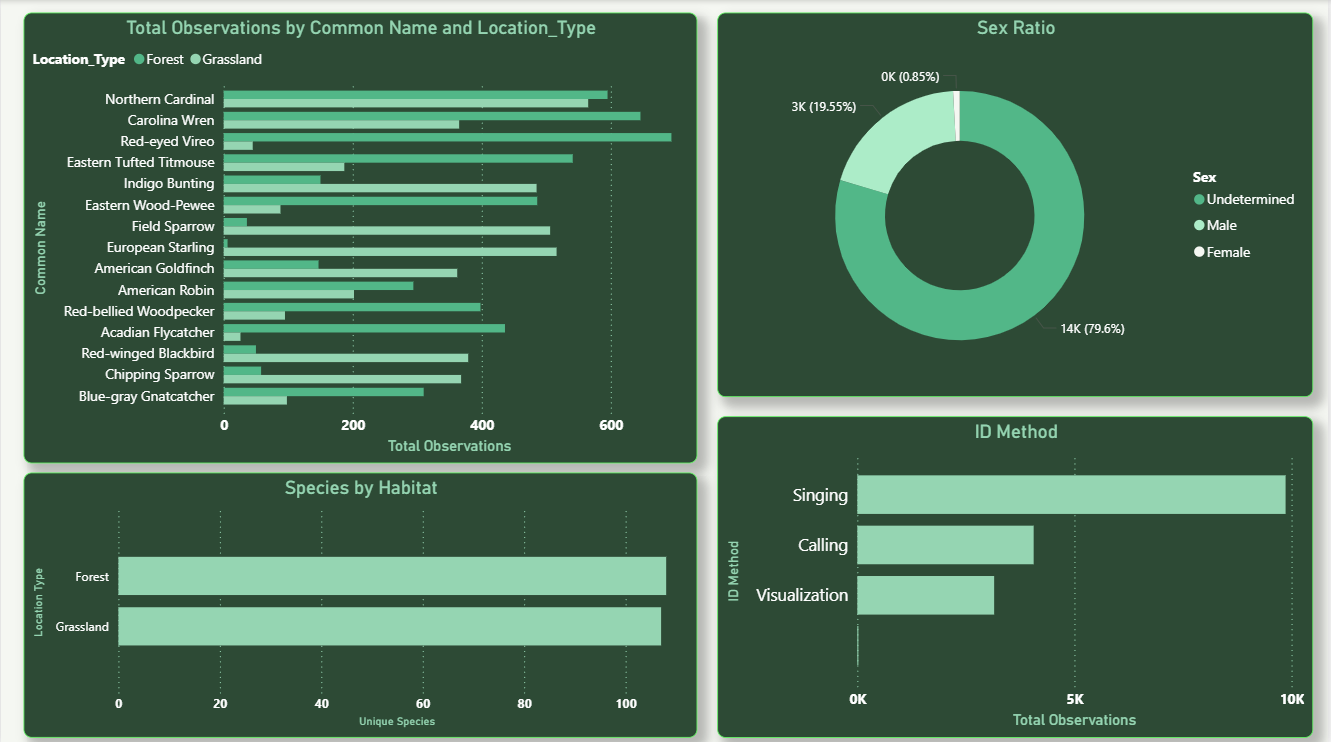

The page's visual inventory and layout, read from the dashboard file:
{"tool":"powerbi","page":{"name":"Species Analysis","canvas":[1280,720],"ordinal":1},"visuals":[{"type":"clusteredBarChart","fields":{"Category":["bird_combined_clean.Common_Name"],"Y":["bird_combined_clean.Total Observations"],"Series":["bird_combined_clean.Location_Type"]},"box":[21.7,12.1,650.3,435.5],"z":0},{"type":"donutChart","title":"Sex Ratio","fields":{"Category":["bird_combined_clean.Sex"],"Y":["bird_combined_clean.Total Observations"]},"box":[691.3,12.1,575.5,371.6],"z":1000},{"type":"clusteredBarChart","title":"ID Method","fields":{"Category":["bird_combined_clean.ID_Method"],"Y":["bird_combined_clean.Total Observations"]},"box":[691.3,401.7,575.5,310.1],"z":2000},{"type":"clusteredBarChart","title":" Species by Habitat","fields":{"Category":["bird_combined_clean.Location_Type"],"Y":["bird_combined_clean.Unique Species"]},"box":[21.7,456,650.3,255.8],"z":3000}]}

Visuals, with their boxes in screenshot pixels (x1, y1, x2, y2), scaled from the page's 1280x720 canvas onto the 1331x742 screenshot:
clusteredBarChart - bird_combined_clean.Common_Name x bird_combined_clean.Total Observations: box(23, 12, 699, 461)
"Sex Ratio" donutChart: box(719, 12, 1317, 395)
"ID Method" clusteredBarChart: box(719, 414, 1317, 734)
" Species by Habitat" clusteredBarChart: box(23, 470, 699, 734)
